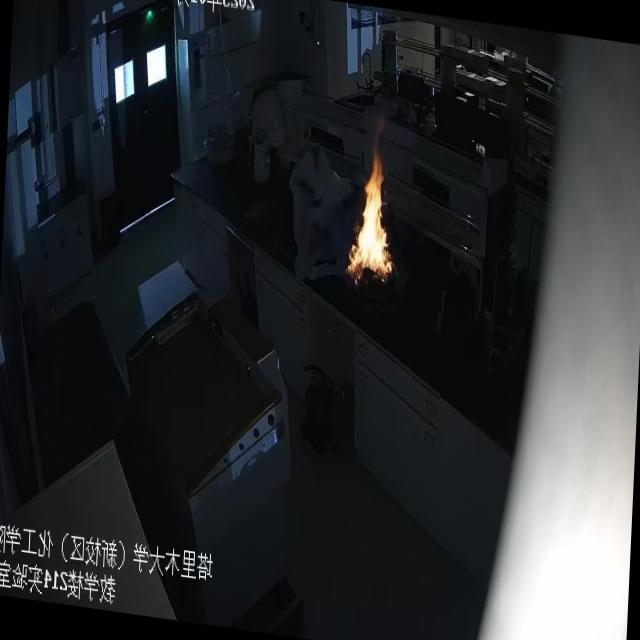fire: (327, 123, 403, 329)
